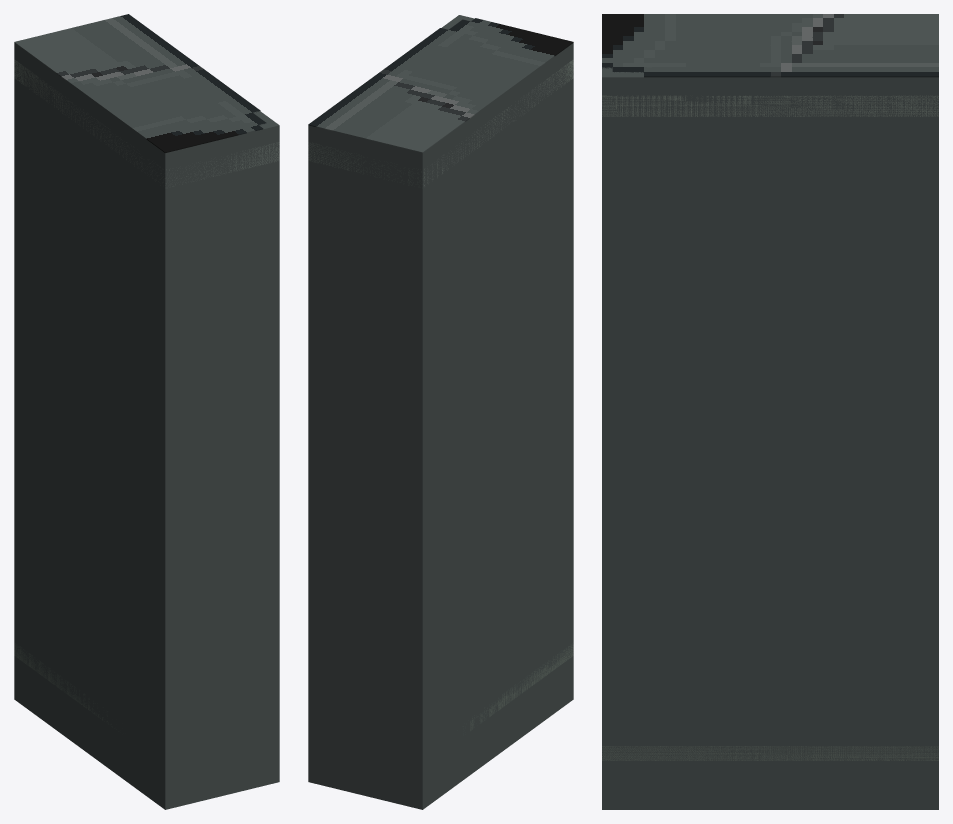
The model's file is CMU3DInteriorVehicleVanFront1.glb.
3 renders of one model, left to right at view 1: azimuth 30°, elevation 25°; view 2: azimuth 150°, elevation 25°; view 3: azimuth 270°, elevation 25°, orthographic. The views are drawn at different scales.
Parts seen in each view (by area): view 1: cabin bulkhead, cabin bulkhead source finish, upper armor trim, lower armor trim; view 2: cabin bulkhead, cabin bulkhead source finish, upper armor trim, lower armor trim; view 3: cabin bulkhead, cabin bulkhead source finish, upper armor trim, lower armor trim.
Boxes of the visible parts, <box> form: cabin bulkhead: <box>14,43,279,809</box>; cabin bulkhead source finish: <box>14,14,266,152</box>; upper armor trim: <box>14,59,279,186</box>; lower armor trim: <box>14,643,118,731</box>; cabin bulkhead: <box>308,15,573,809</box>; cabin bulkhead source finish: <box>308,18,573,152</box>; upper armor trim: <box>308,60,573,186</box>; lower armor trim: <box>463,643,573,730</box>; cabin bulkhead: <box>602,67,938,809</box>; cabin bulkhead source finish: <box>602,14,938,77</box>; upper armor trim: <box>602,95,938,116</box>; lower armor trim: <box>602,746,938,760</box>.
Size of the model in its own units: 0.4375 by 2.4 by 1.
Materials: 4 (1 with a texture image).
